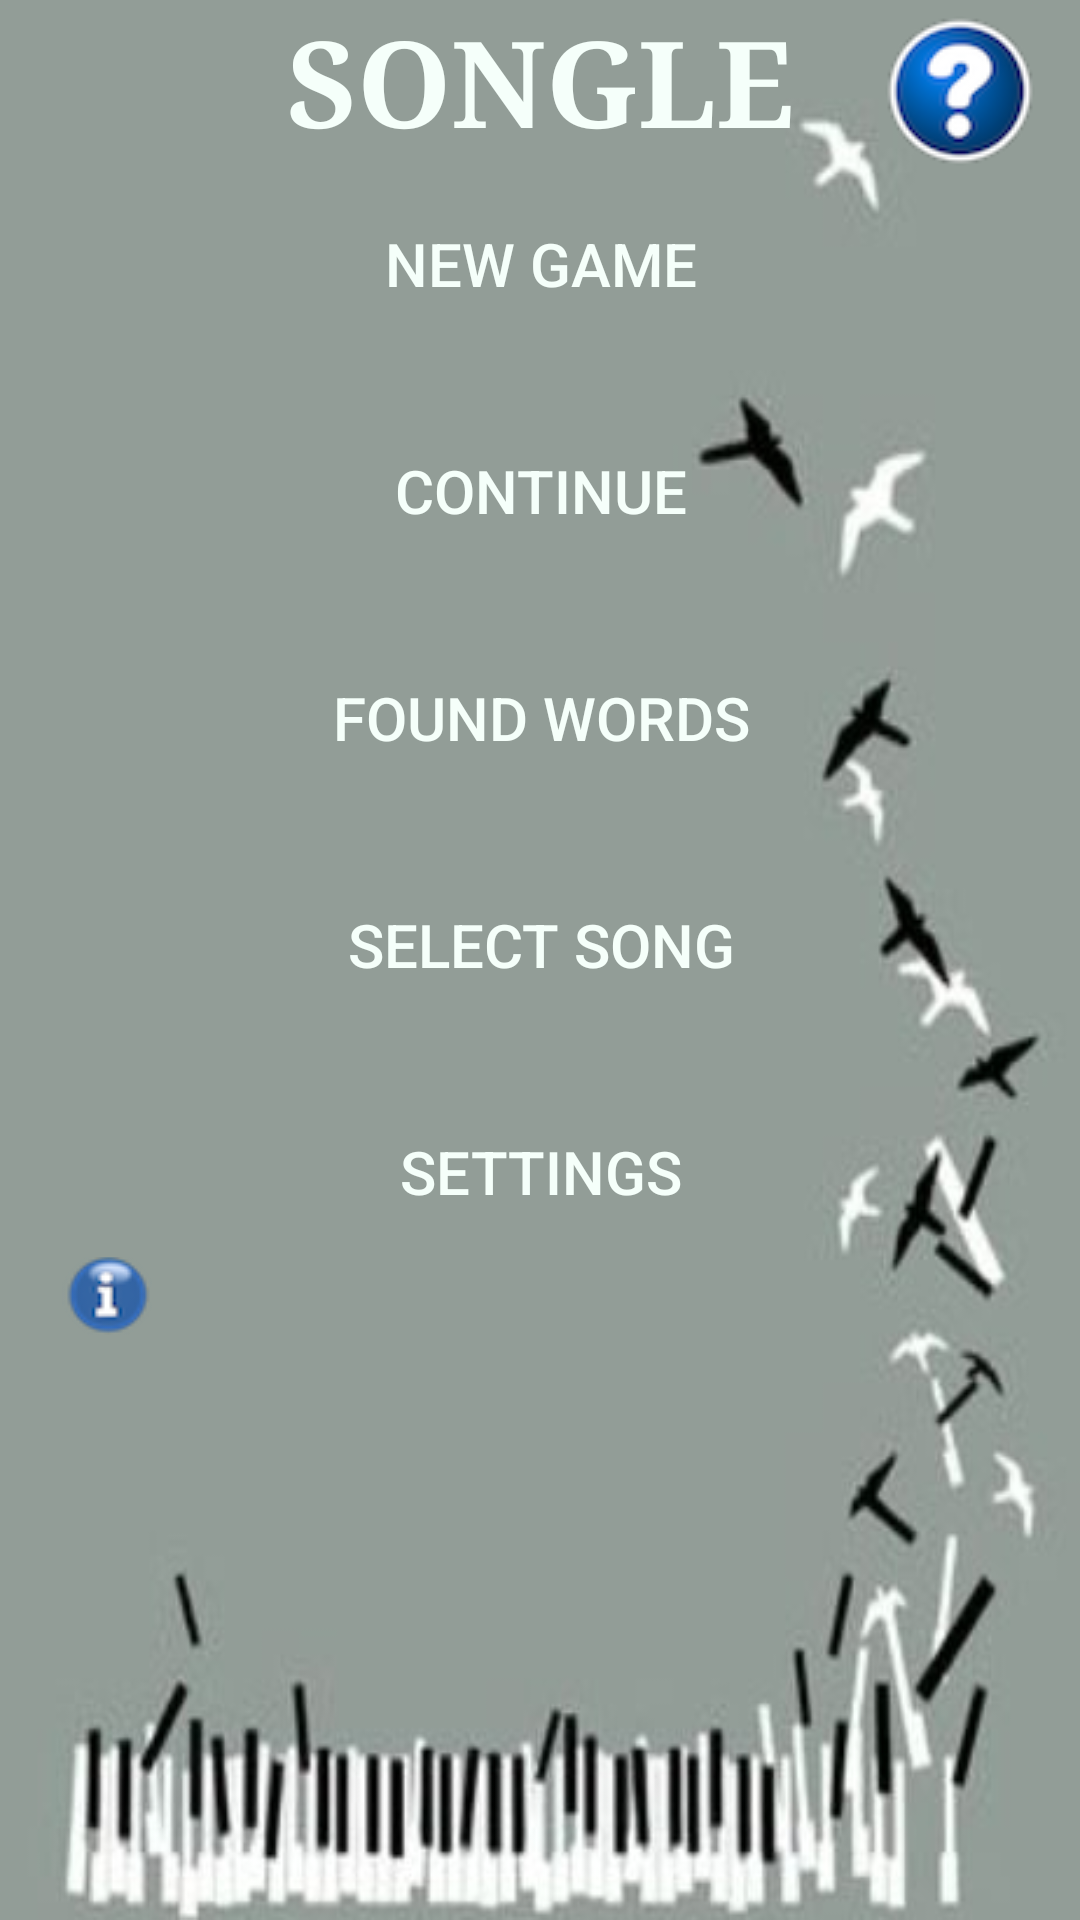

Icons on this 1080px×1920px Android screen, each with its box as detection(x1, y1, x2, y2):
help: detection(889, 20, 1031, 162)
information smaller: detection(68, 1257, 147, 1333)
